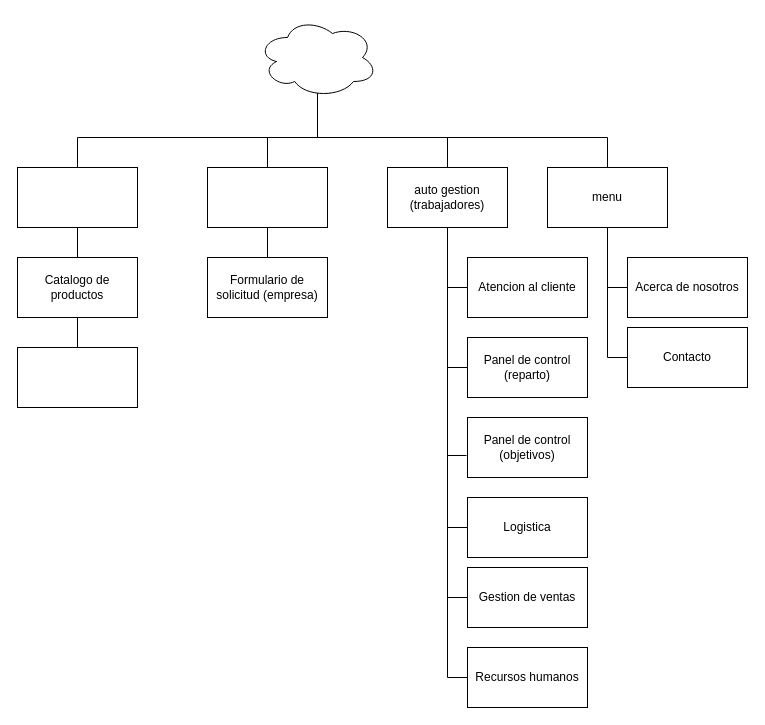
This 765x725 diagram has some shape labels left out. Here are the shapes that lost their labels. From the top down, the box of each, then its label:
(256, 16, 378, 98): Home page
(16, 166, 138, 228): inicio
(206, 166, 328, 228): login
(16, 346, 138, 408): Formulario de solicitud
